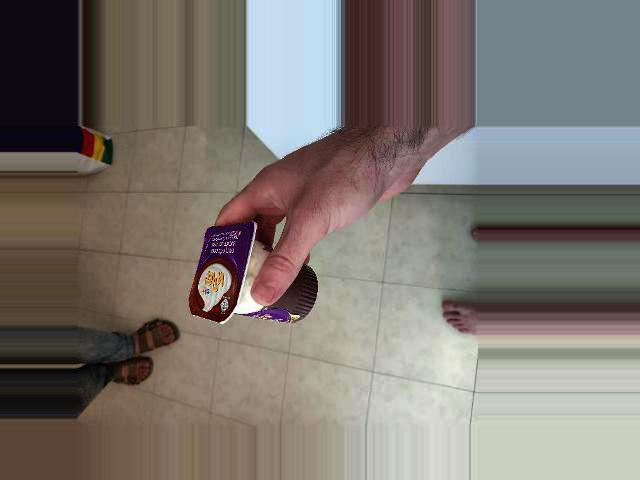milky: (181, 240, 266, 368)
